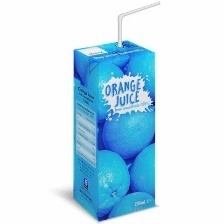carton: (66, 39, 164, 224)
drinking_straw: (112, 0, 163, 50)
